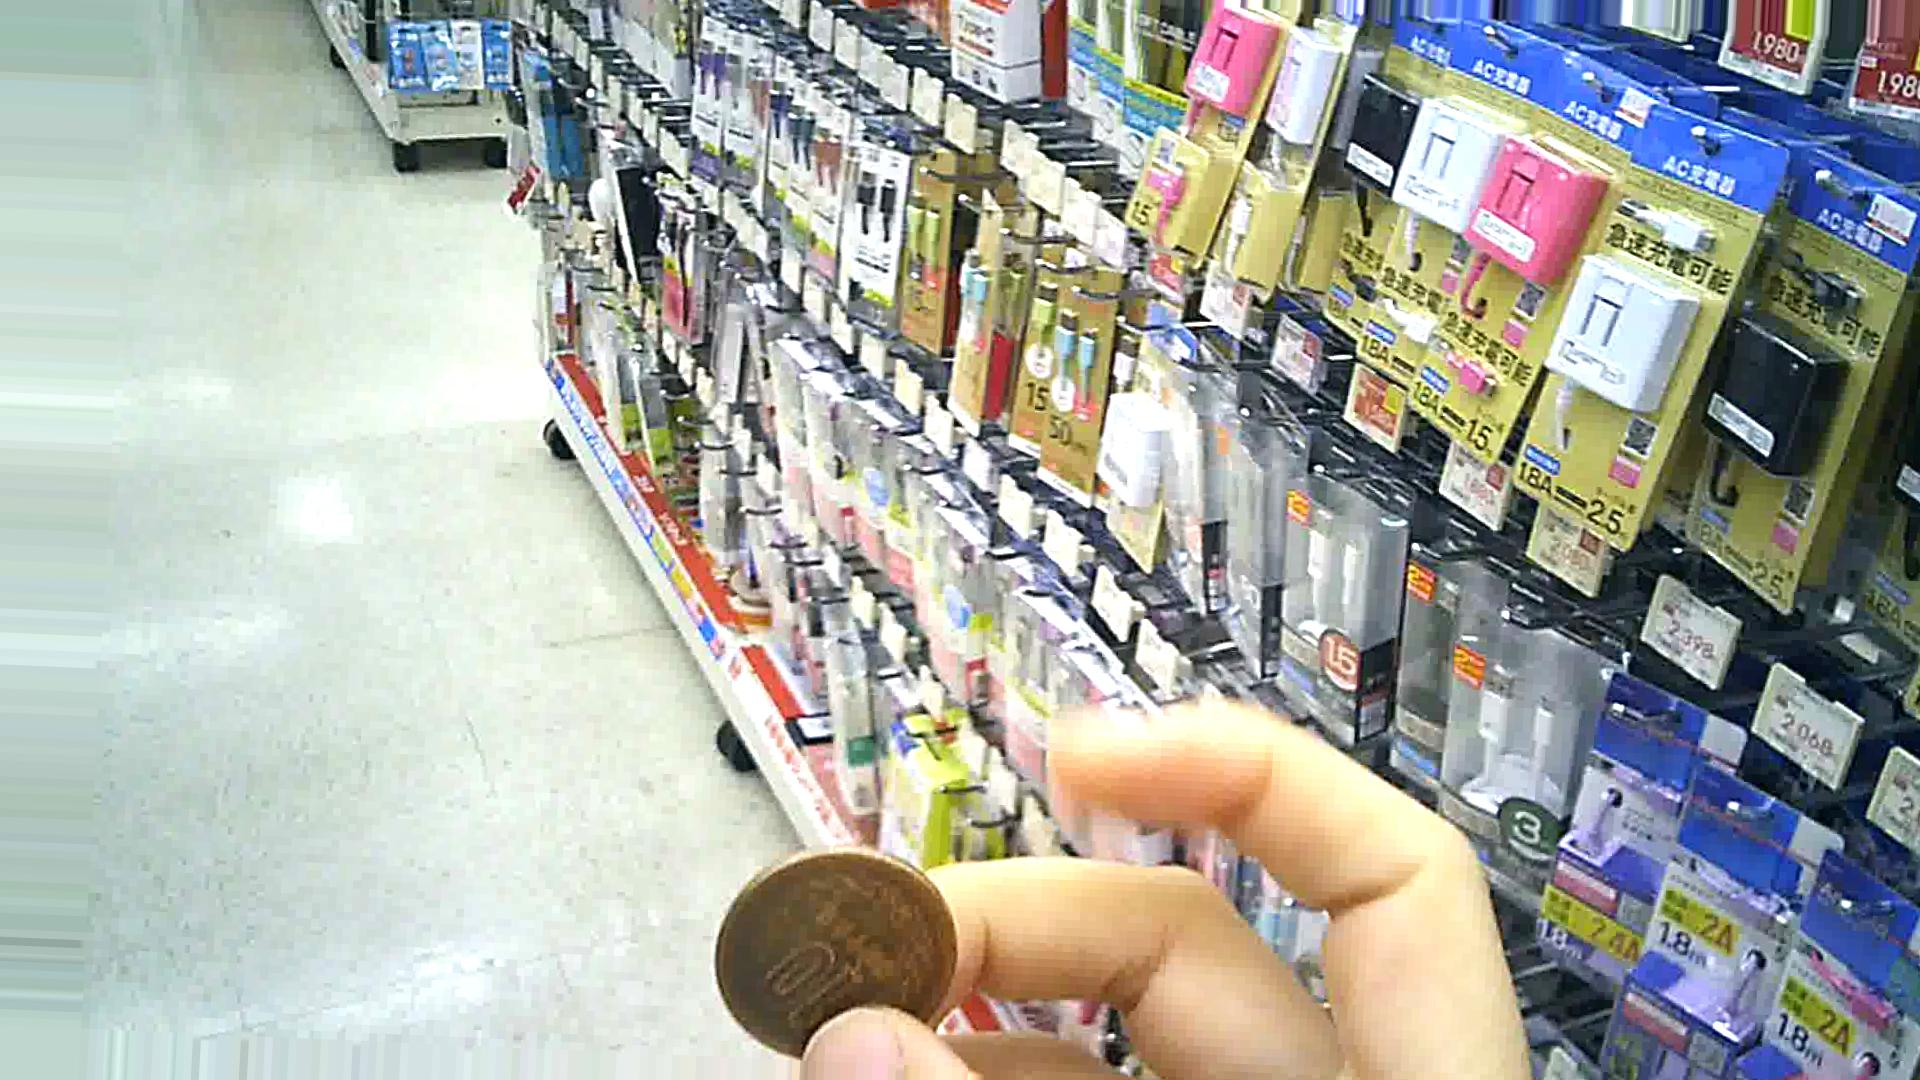10 Yen: (702, 847, 953, 1062)
